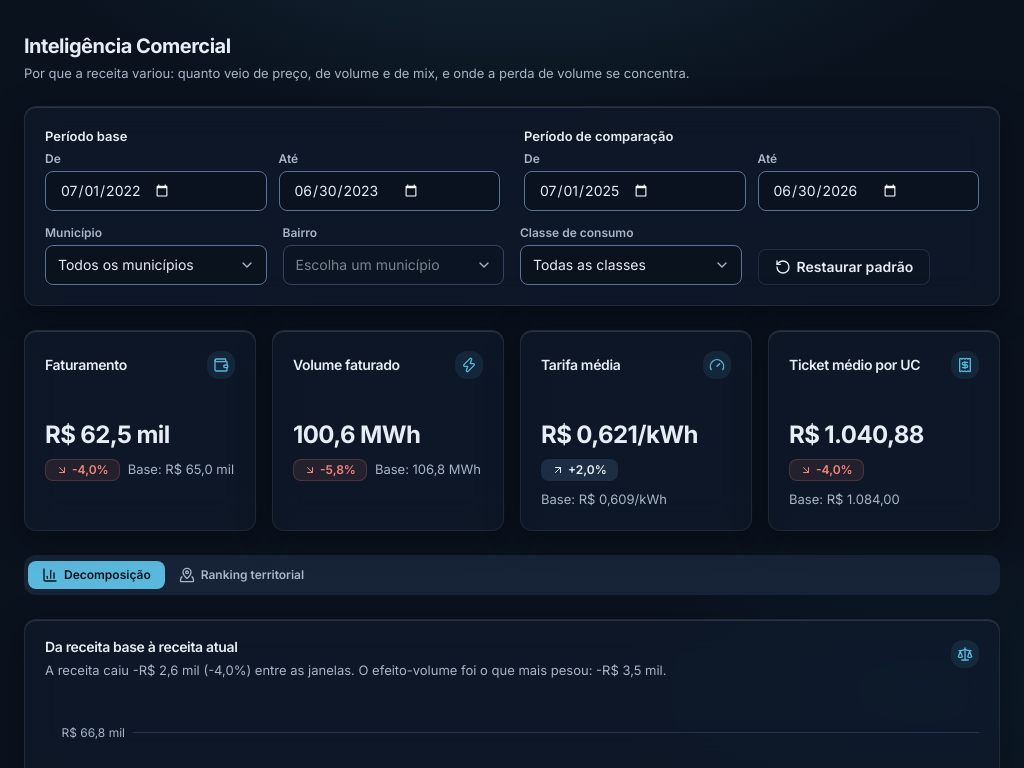
RevenueDashboardPage › suspende as consultas e avisa quando as janelas ficam inválidas
Expected: the text "Faturamento" is shown, [45,358,127,372]
In the date field with id "base-fim": (389, 191) [278,171,500,211], type "2026-01-31"
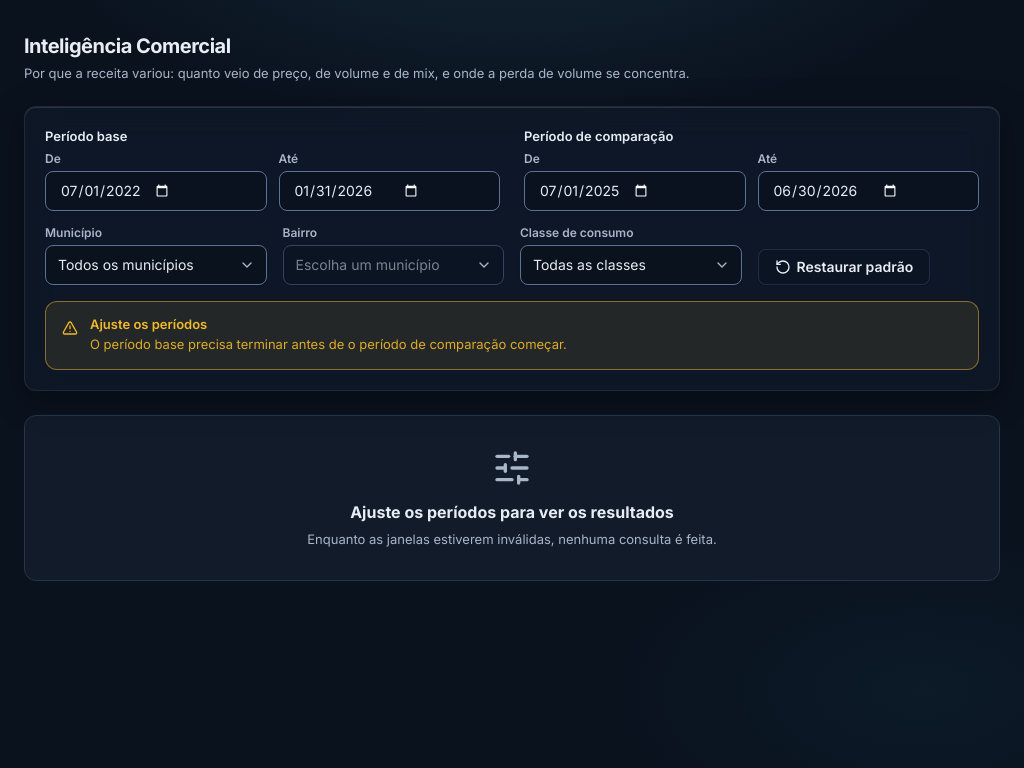
Expected: the heading "Ajuste os períodos para ver os resultados" is shown, [350,500,674,524]
Expected: the text "Faturamento" is gone
